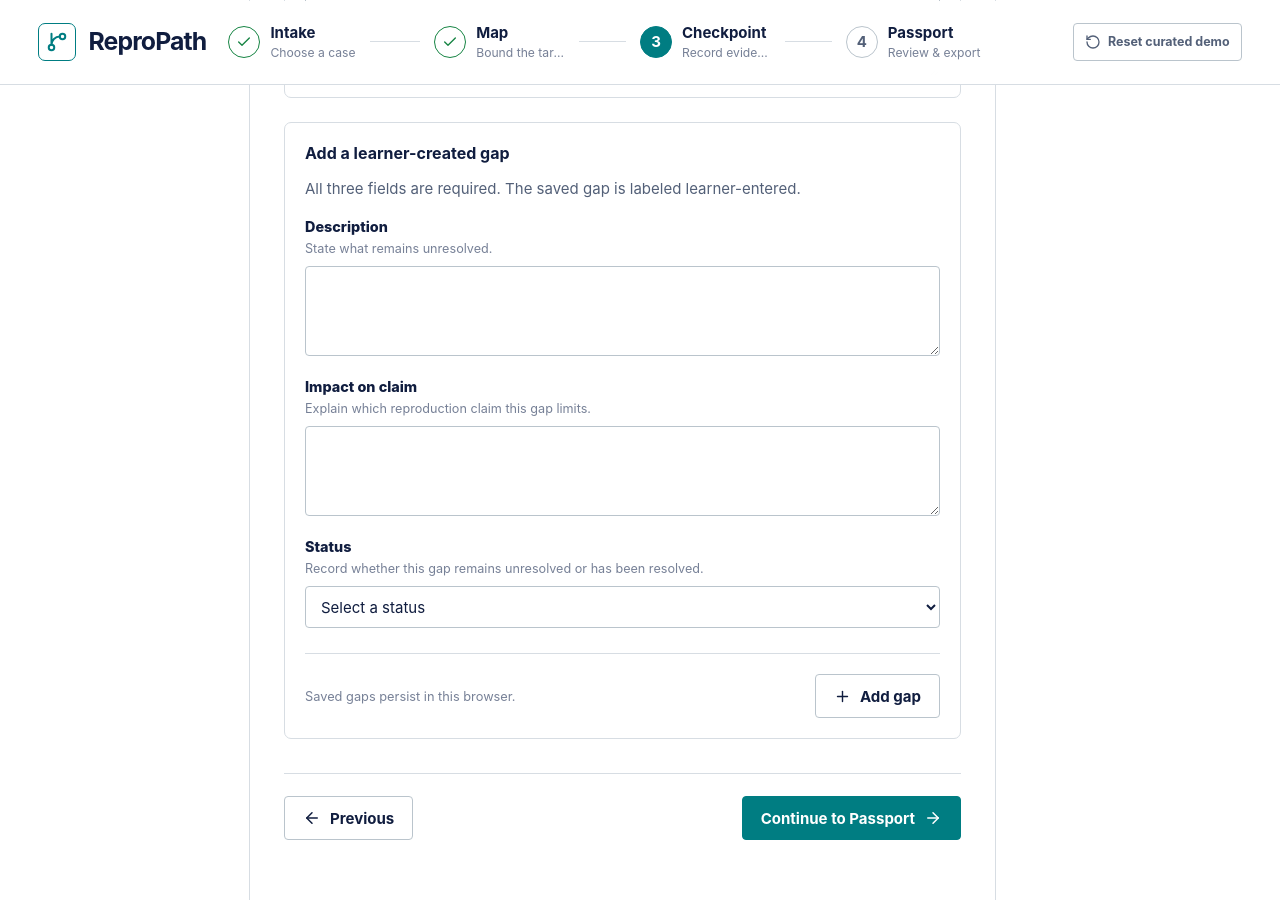
it: full protocol workspace › validates and persists learner-created gaps
The image size is (1280, 900).
(page scrolled)
Click the button "Add gap".
click(877, 696)  # box [815, 674, 940, 718]
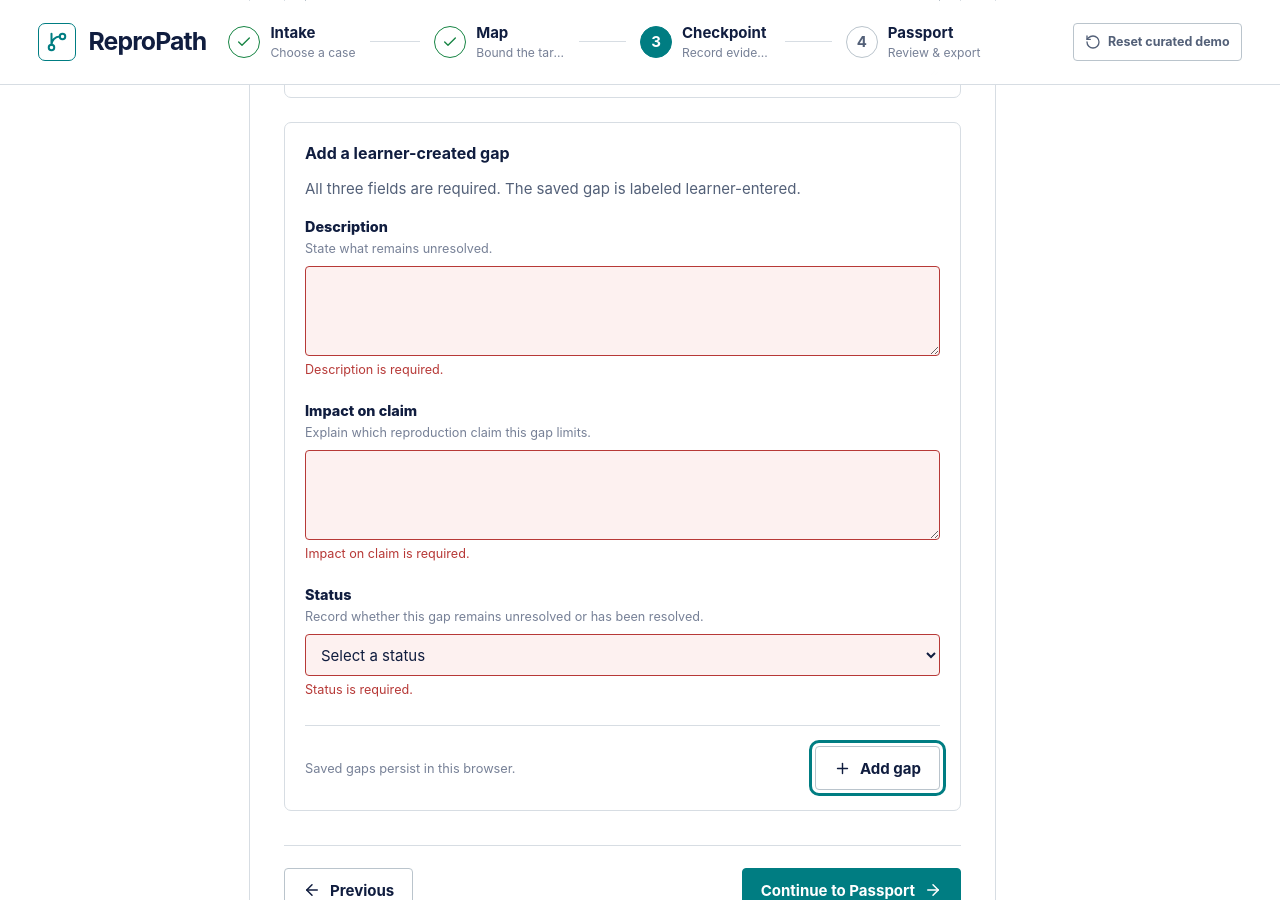
expect the text "Description is required." is shown: met, box [305, 362, 444, 377]
expect the text "Impact on claim is required." is shown: met, box [305, 546, 470, 561]
expect the text "Status is required." is shown: met, box [305, 682, 413, 697]
Type "Tokenizer behavior has not been checked." into the text box labelled "Description".
click(622, 311); type("Tokenizer behavior has not been checked.")  # box [305, 266, 940, 356]
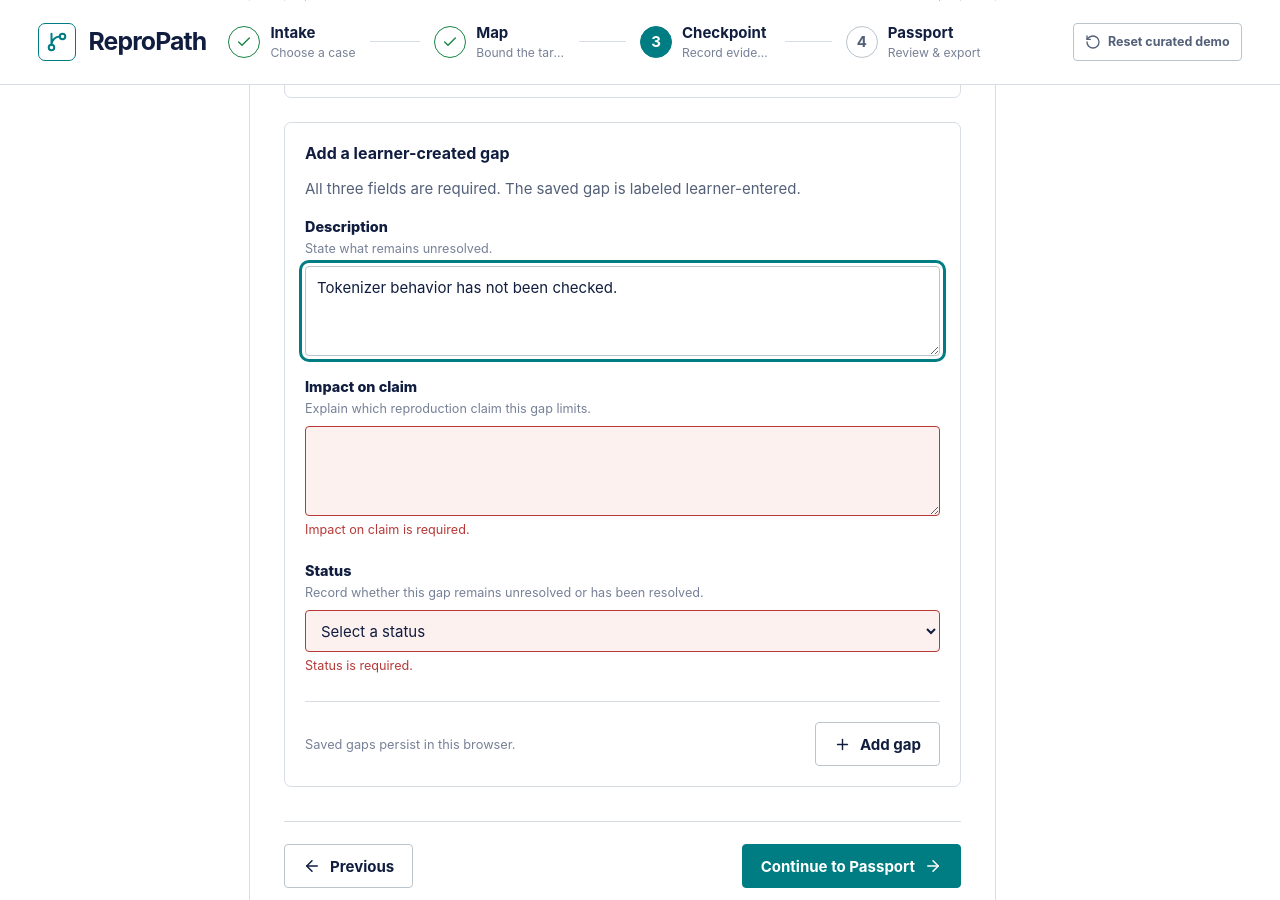
Type "This limits claims about preprocessing equivalence." into the text box labelled "Impact on claim".
click(622, 471); type("This limits claims about preprocessing equivalence.")  # box [305, 426, 940, 516]
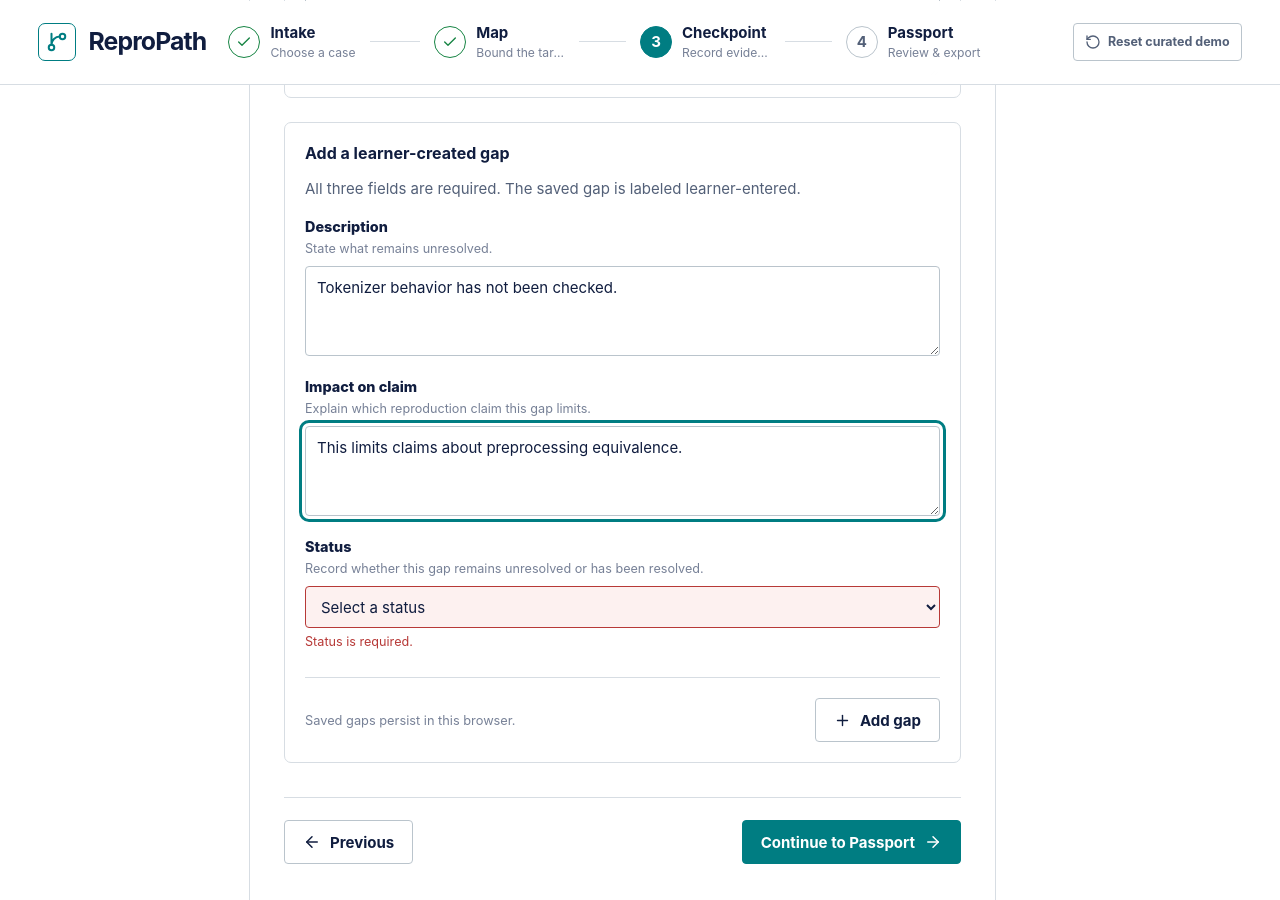
Select "Unresolved" in the dropdown labelled "Status" at (622, 607), box [305, 586, 940, 628]
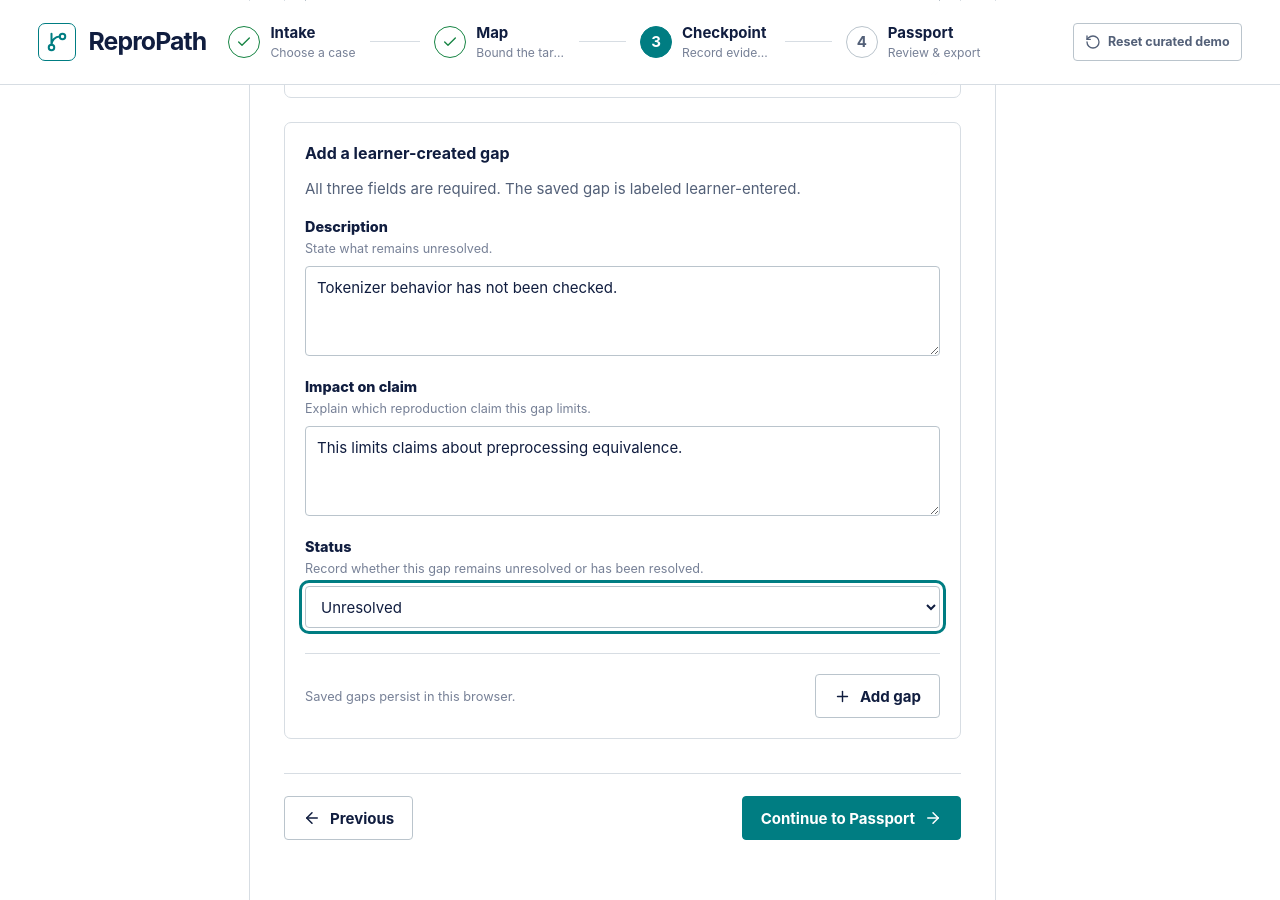
Click the button "Add gap".
click(877, 696)  # box [815, 674, 940, 718]
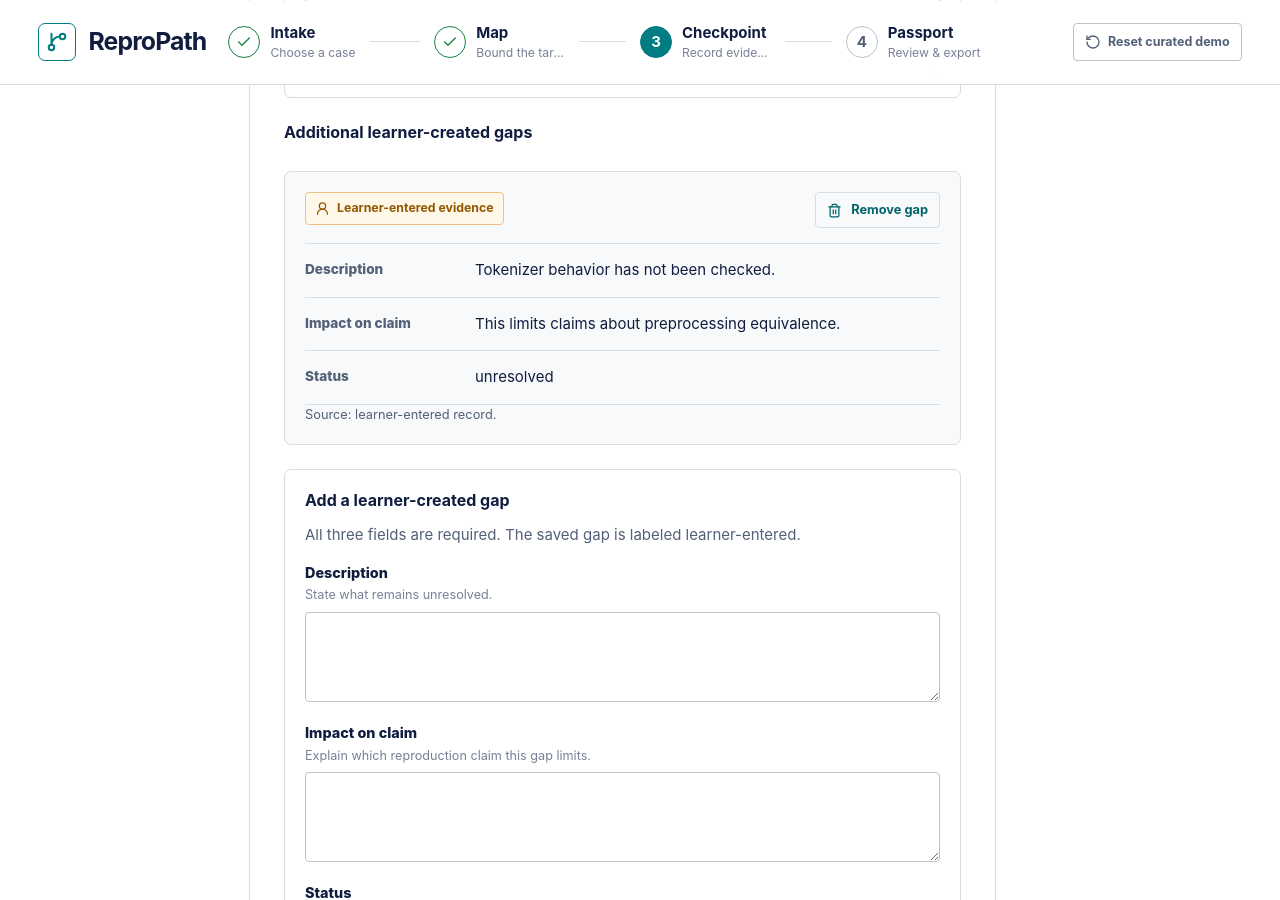
expect the text "Tokenizer behavior has not been checked." is shown: met, box [475, 260, 775, 279]
expect the text "Learner-entered evidence" is shown: met, box [305, 192, 504, 224]
